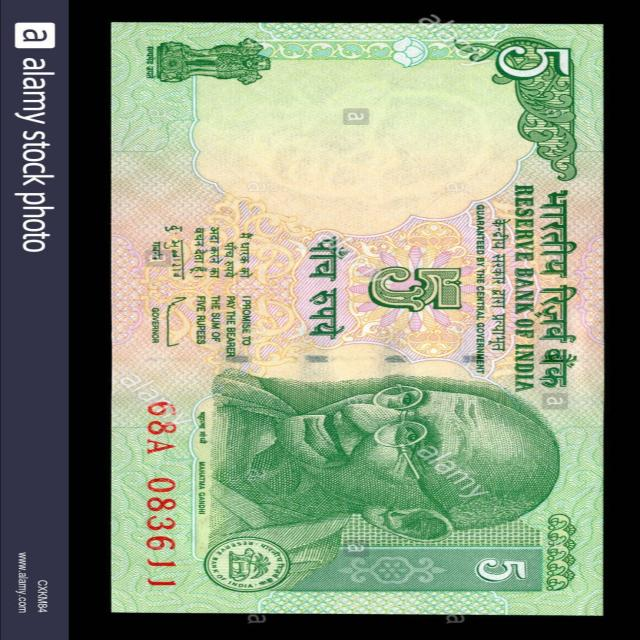5IndianRupees: (112, 26, 600, 615)
